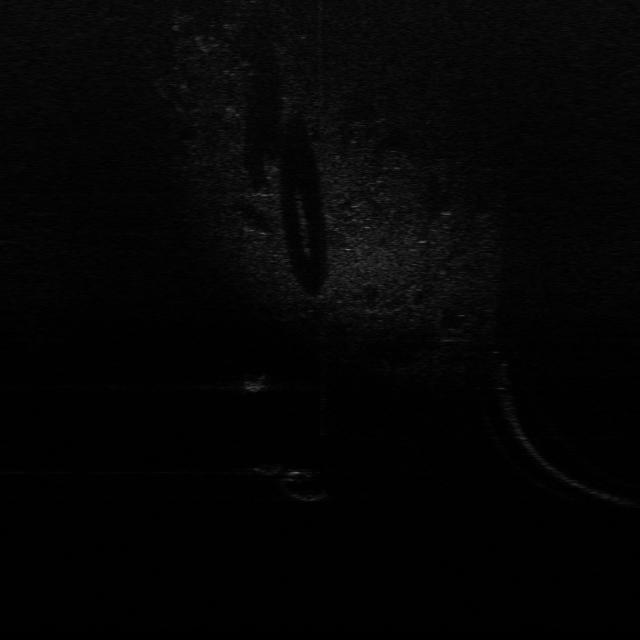cube: (248, 460, 287, 477)
square cage: (236, 372, 270, 393)
tyre: (276, 468, 330, 503)
